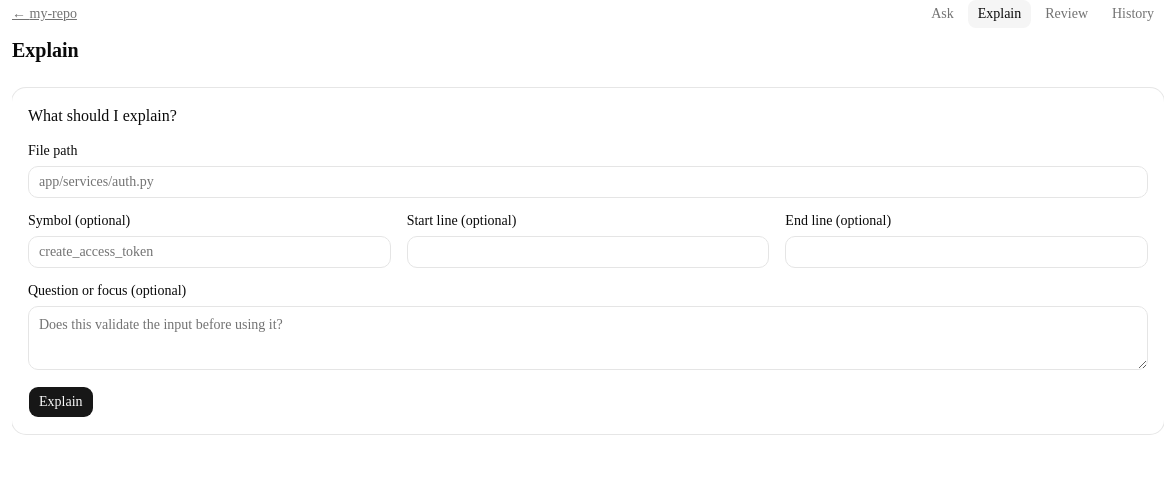
Test: ExplainPage › rejects an end line before the start line
In the field labelled "File path": {"x": 588, "y": 182} [28, 166, 1148, 198], type "a.py"
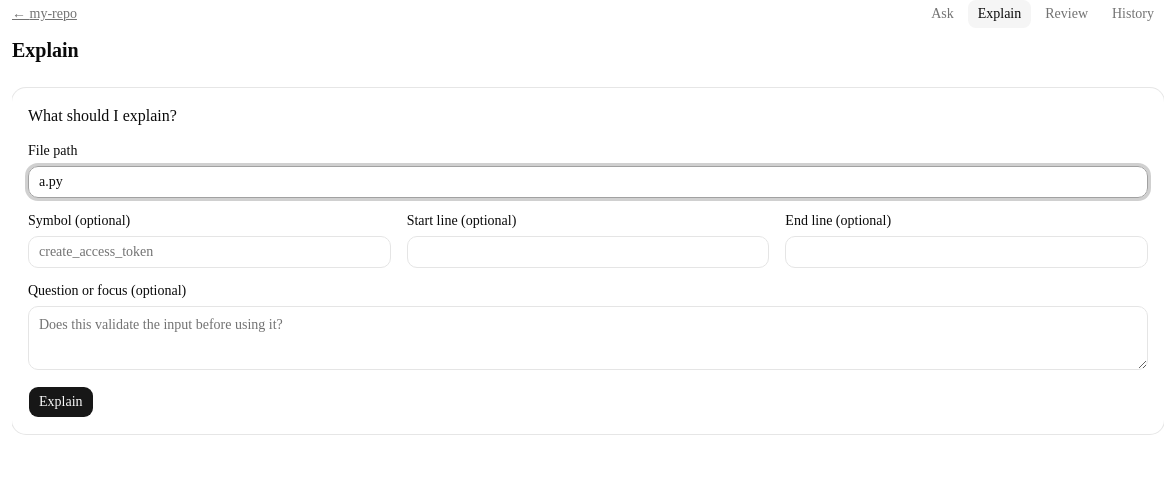
In the field labelled "Start line (optional)": {"x": 588, "y": 252} [407, 236, 769, 268], type "10"
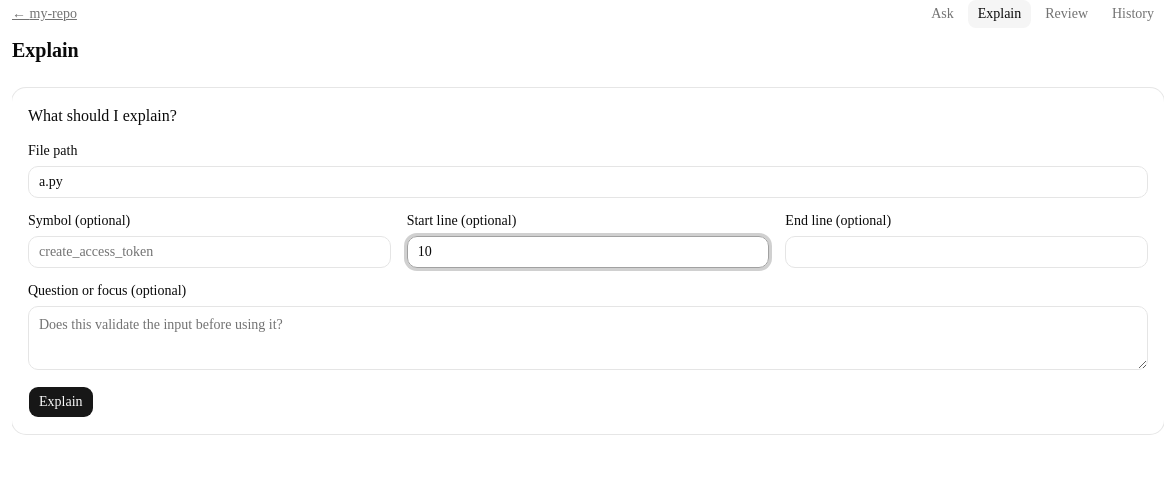
In the field labelled "End line (optional)": {"x": 967, "y": 252} [785, 236, 1148, 268], type "5"
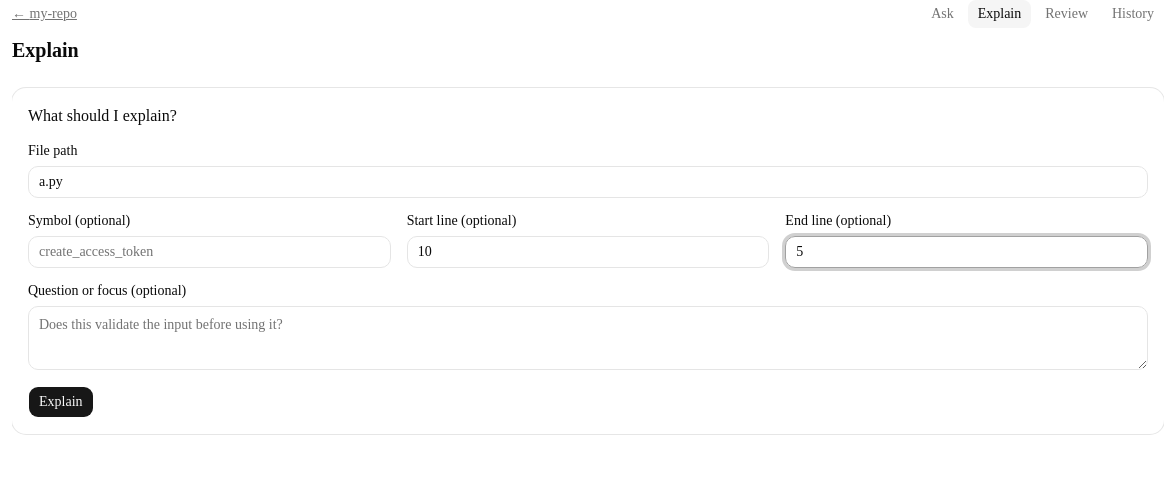
Click the button "Explain": {"x": 61, "y": 402} [28, 386, 94, 418]
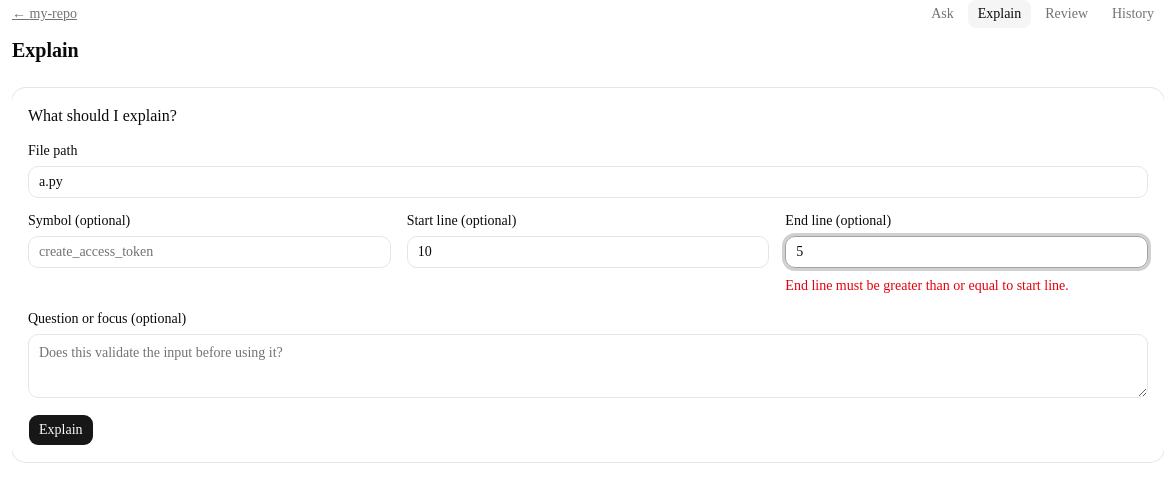
Now the text "End line must be greater than or equal to start line." is shown, box [785, 278, 1069, 293]
